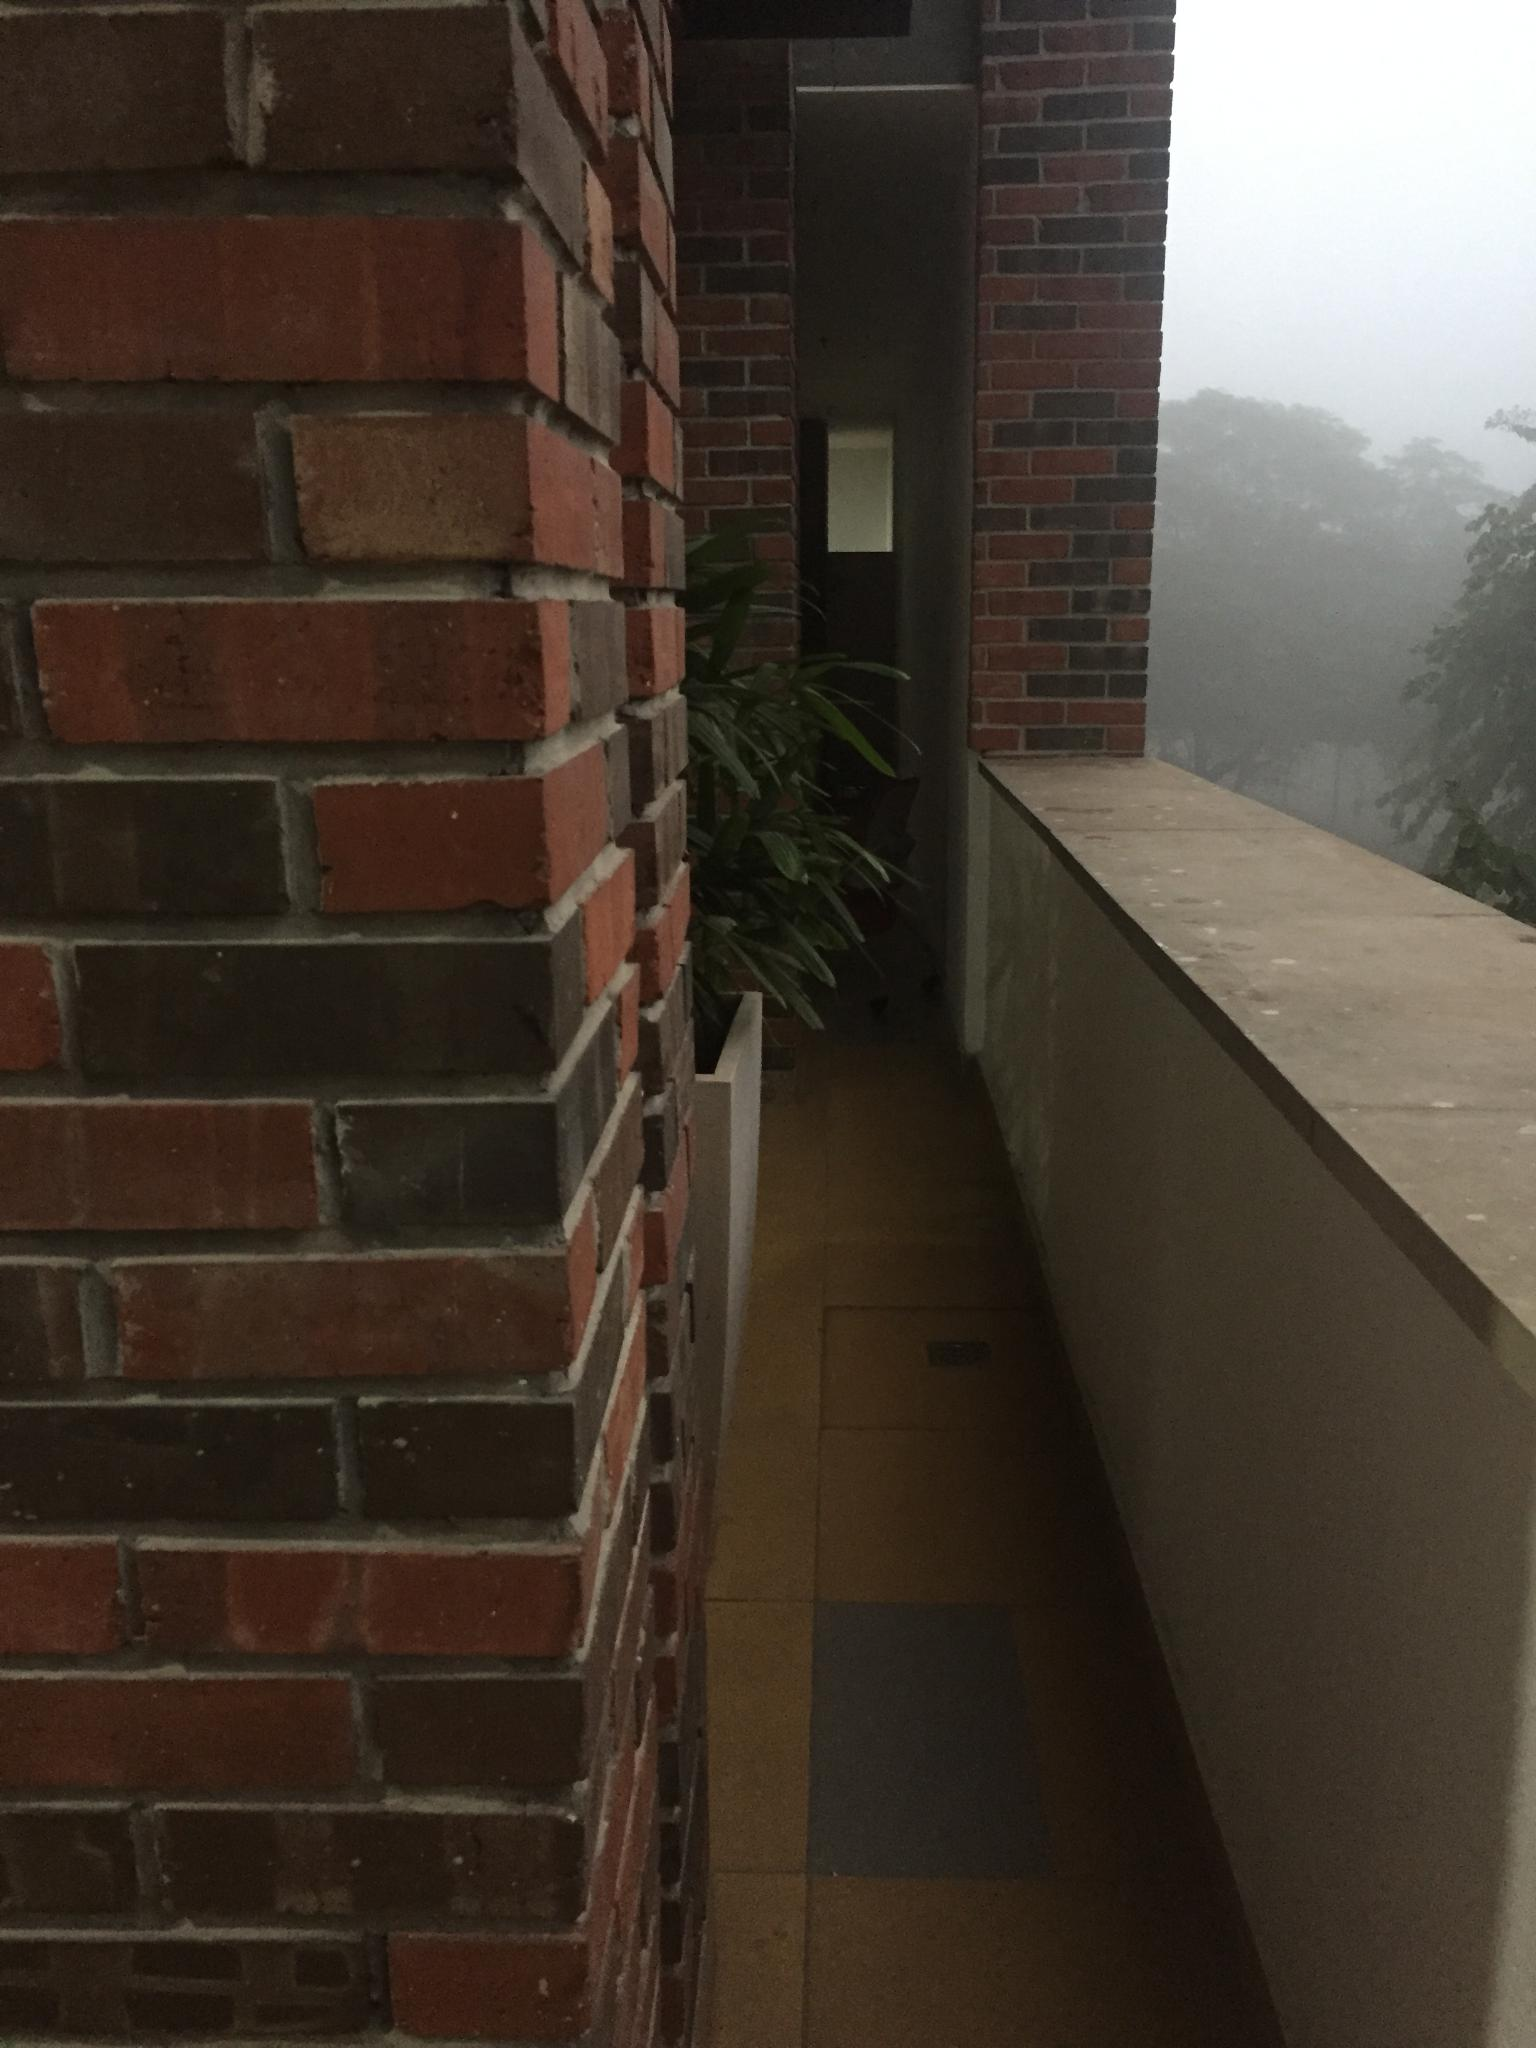chair: (749, 777, 936, 1026)
